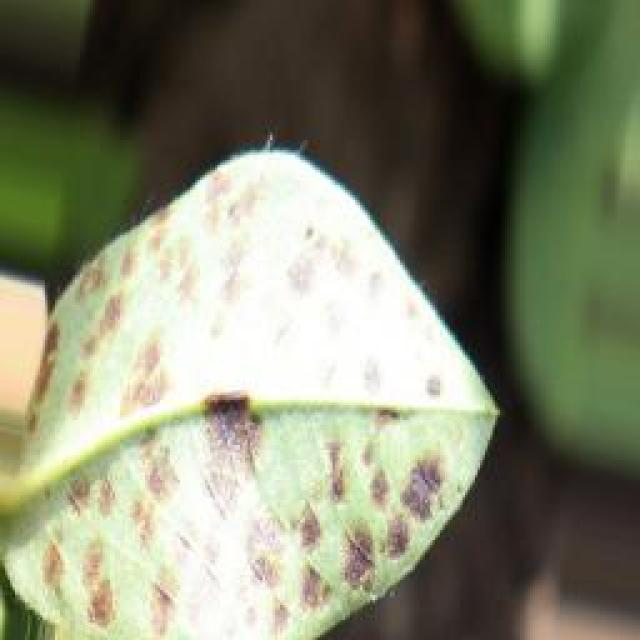Whitefly: (0, 142, 503, 640)
